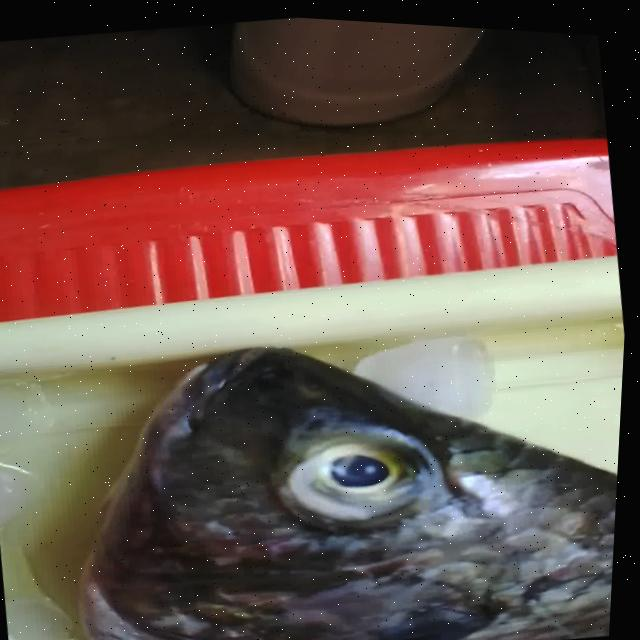Fresh: (281, 410, 448, 527)
